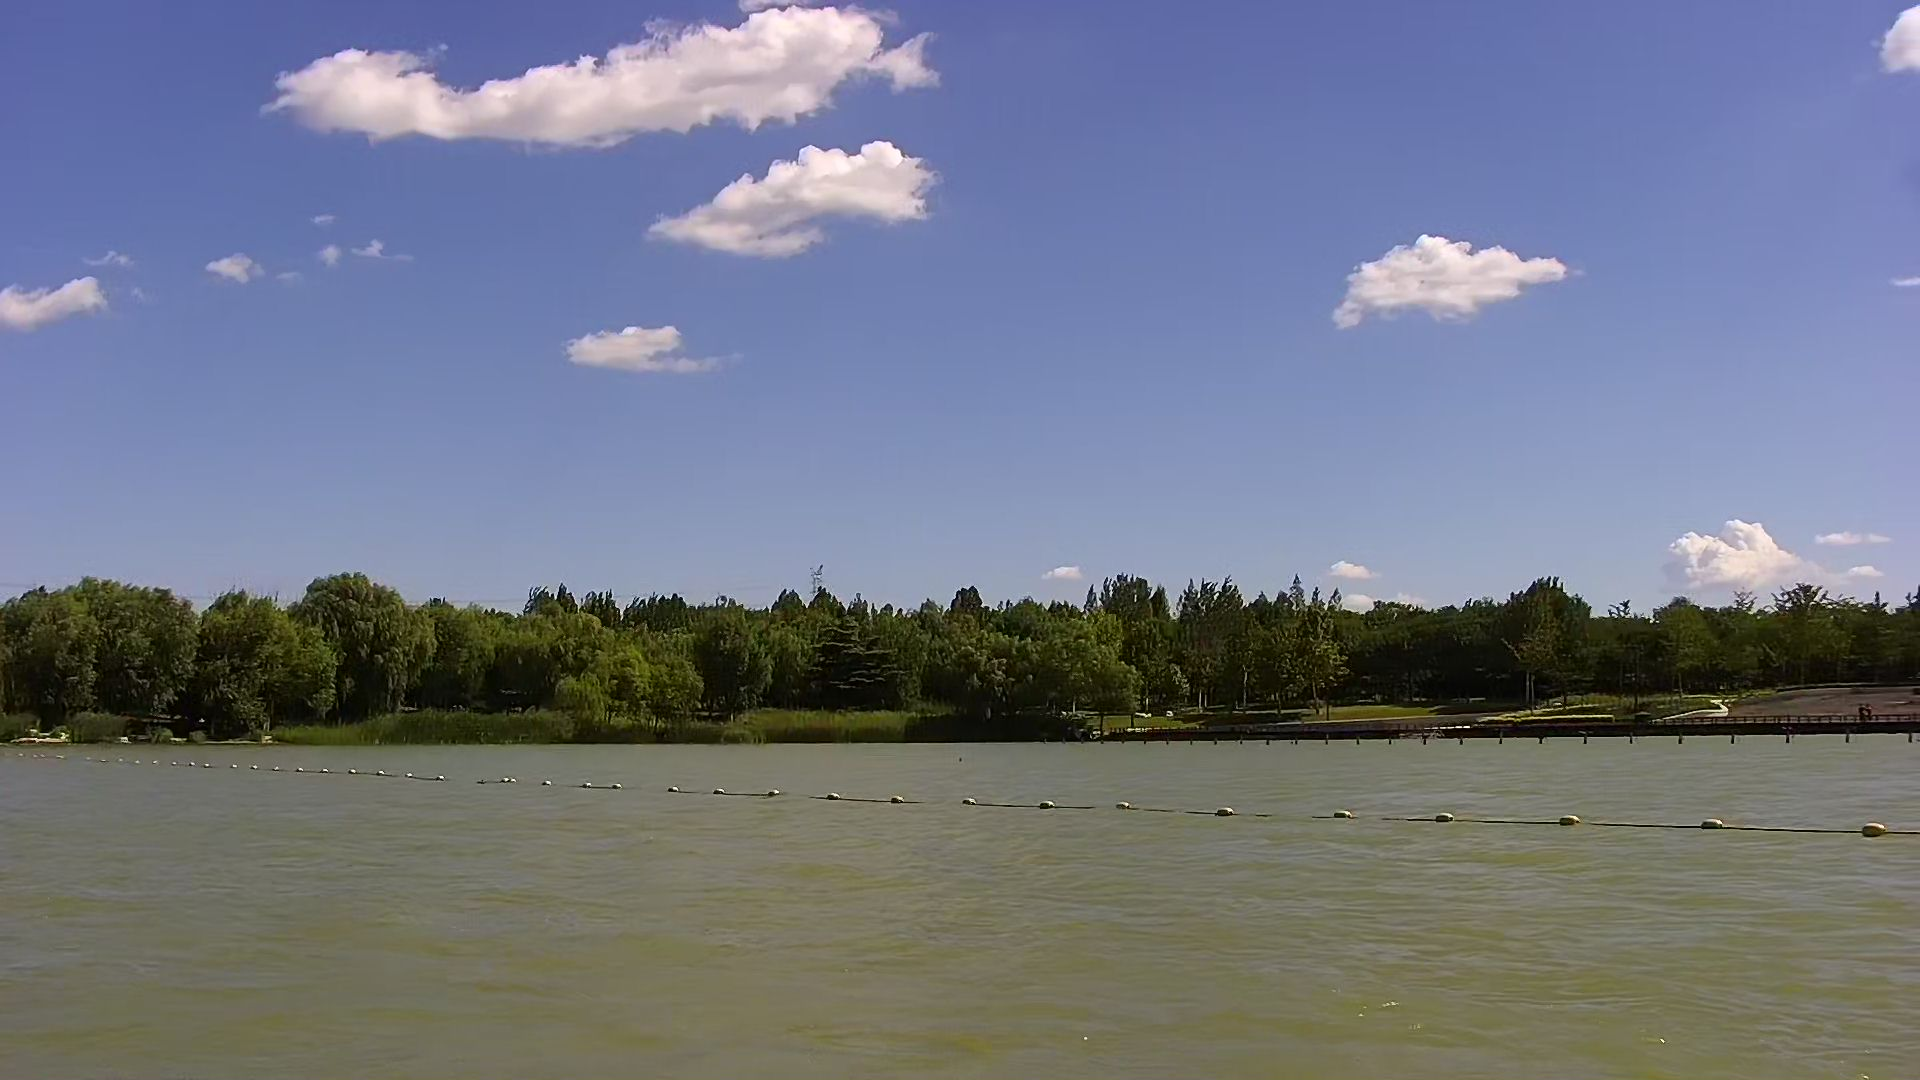ball: (1847, 798, 1903, 862), (1701, 808, 1741, 848), (1429, 798, 1472, 833), (1551, 806, 1585, 843)
buoy: (1197, 789, 1241, 832), (1329, 793, 1371, 833)
